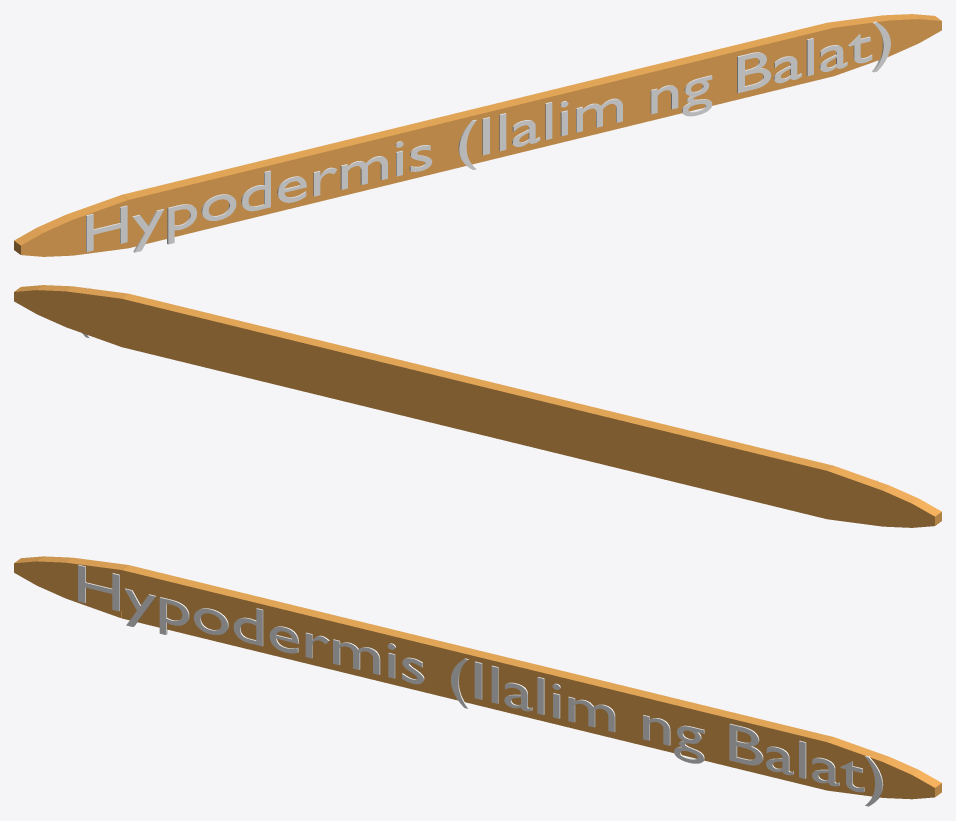
Rendered from txtHypodermis.fbx.
3 renders of one model, top to bottom at view 1: azimuth 30°, elevation 25°; view 2: azimuth 150°, elevation 25°; view 3: azimuth 330°, elevation 25°, orthographic.
Parts seen in each view (by area): view 1: TagContainer.065, Text.066; view 2: TagContainer.065; view 3: TagContainer.065, Text.066.
Part boxes in pixels (x1,y1,x2,y2): TagContainer.065: (14,14,941,256); Text.066: (86,21,890,252); TagContainer.065: (14,285,941,527); TagContainer.065: (14,556,941,799); Text.066: (78,565,883,806).
Bounding box in the file's own units: 822 × 45.66 × 11.92.
